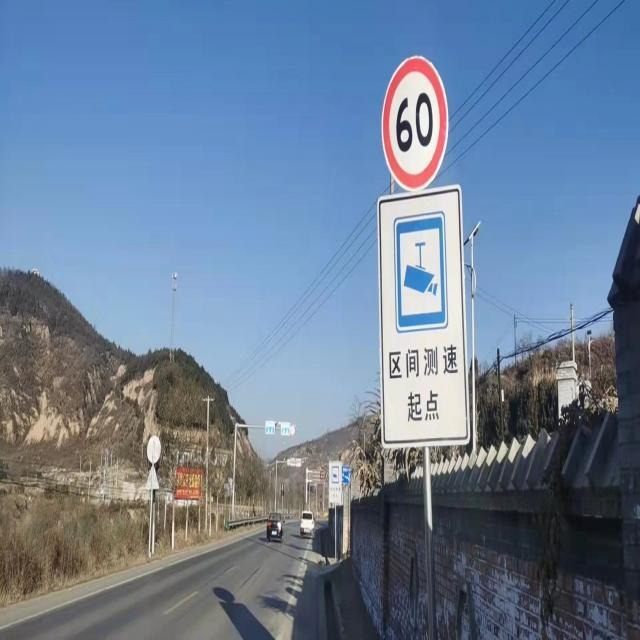speed limit 60: (378, 55, 451, 194)
